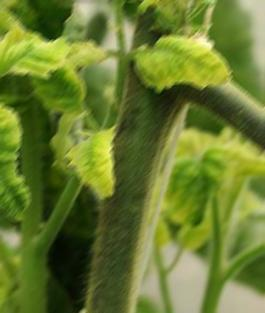Tomato leaf yellow virus: (64, 104, 128, 227), (135, 25, 234, 90), (0, 89, 46, 226), (0, 35, 104, 93)
